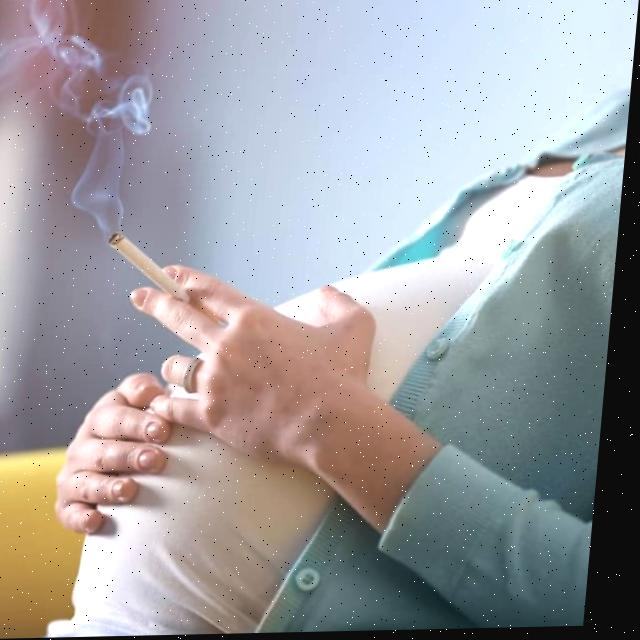cigarette: (108, 230, 200, 304)
